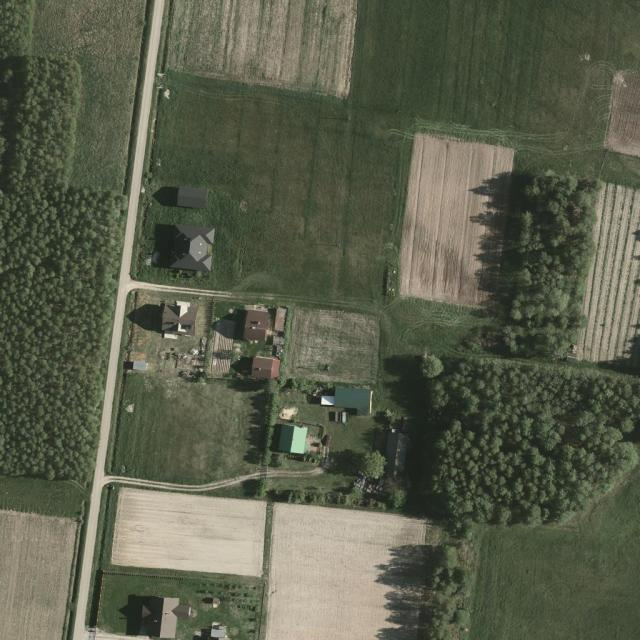greenland: (422, 165, 639, 639)
unmetalled_road: (64, 0, 172, 640)
